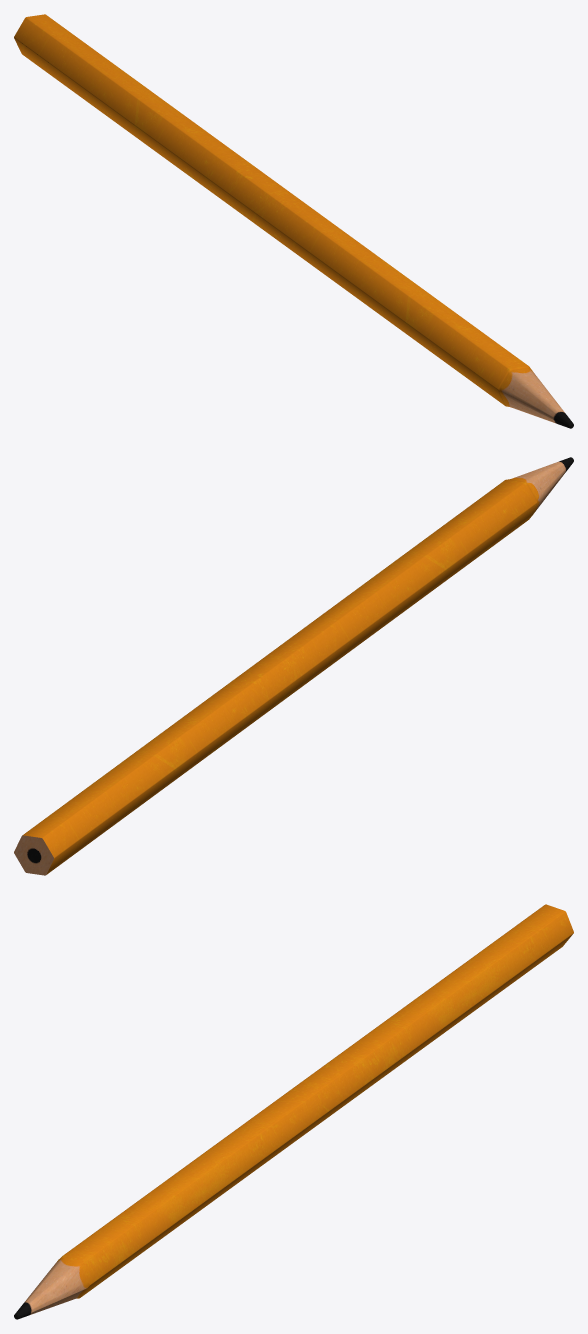
File: Wooden Pencil.fbx
3 renders of one model, top to bottom at view 1: azimuth 30°, elevation 25°; view 2: azimuth 150°, elevation 25°; view 3: azimuth 330°, elevation 25°, orthographic.
Visible parts, largest first — view 1: Pencil_Pencil_0; view 2: Pencil_Pencil_0; view 3: Pencil_Pencil_0.
Boxes of the visible parts, x1=… form: Pencil_Pencil_0: x1=14, y1=14, x2=573, y2=428; Pencil_Pencil_0: x1=14, y1=457, x2=573, y2=875; Pencil_Pencil_0: x1=14, y1=904, x2=573, y2=1319.
Size of the model in its own units: 72.37 by 70.14 by 1678.
Materials: 1 (1 with a texture image).
